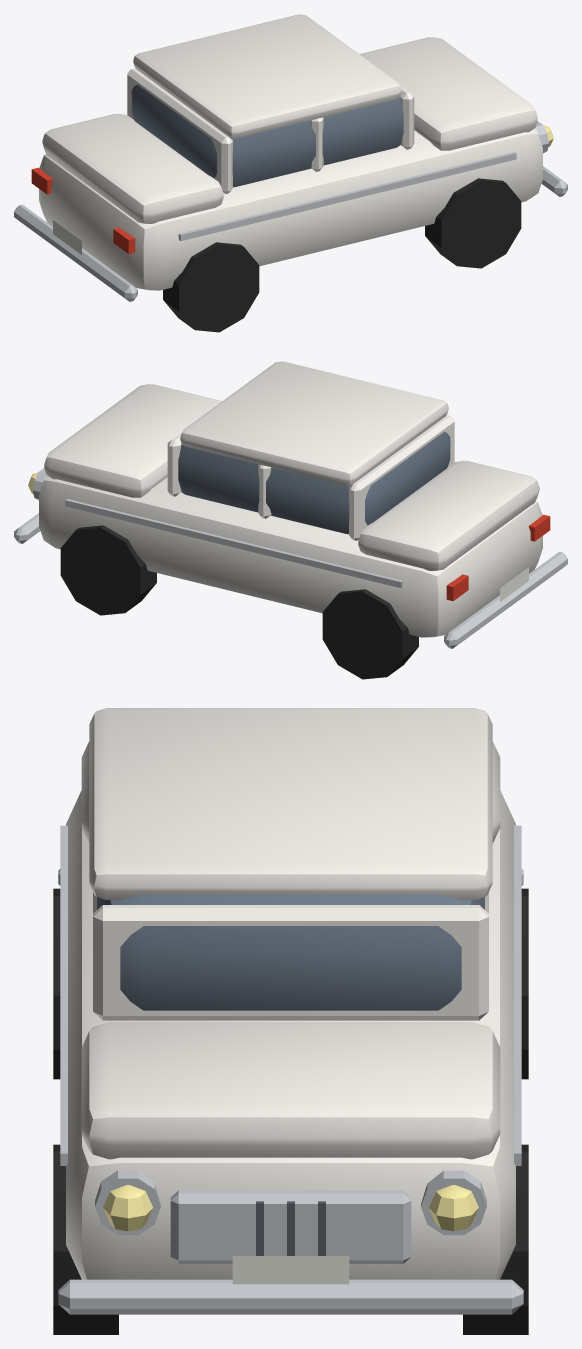
The model's file is car_ambassador.glb.
3 views of the same model, one above another, from view 1: azimuth 30°, elevation 25°; view 2: azimuth 150°, elevation 25°; view 3: azimuth 270°, elevation 25° (orthographic). The views are drawn at different scales.
Parts seen in each view (by area): view 1: car_ambassador; view 2: car_ambassador; view 3: car_ambassador.
Part boxes in pixels (x1=…): car_ambassador: x1=14, y1=14, x2=567, y2=332; car_ambassador: x1=14, y1=361, x2=567, y2=679; car_ambassador: x1=53, y1=708, x2=528, y2=1334.
Size of the model in its own units: 2.66 by 1.11 by 1.23.
Materials: 1 (1 with a texture image).
